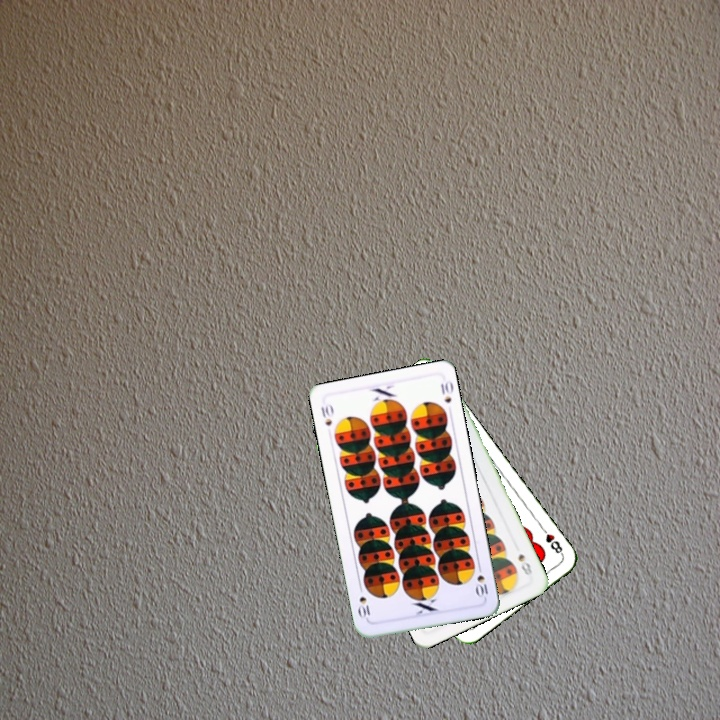H8: (537, 523, 566, 558)
S10: (472, 560, 491, 600), (317, 400, 336, 429)
S8: (514, 550, 535, 578)
